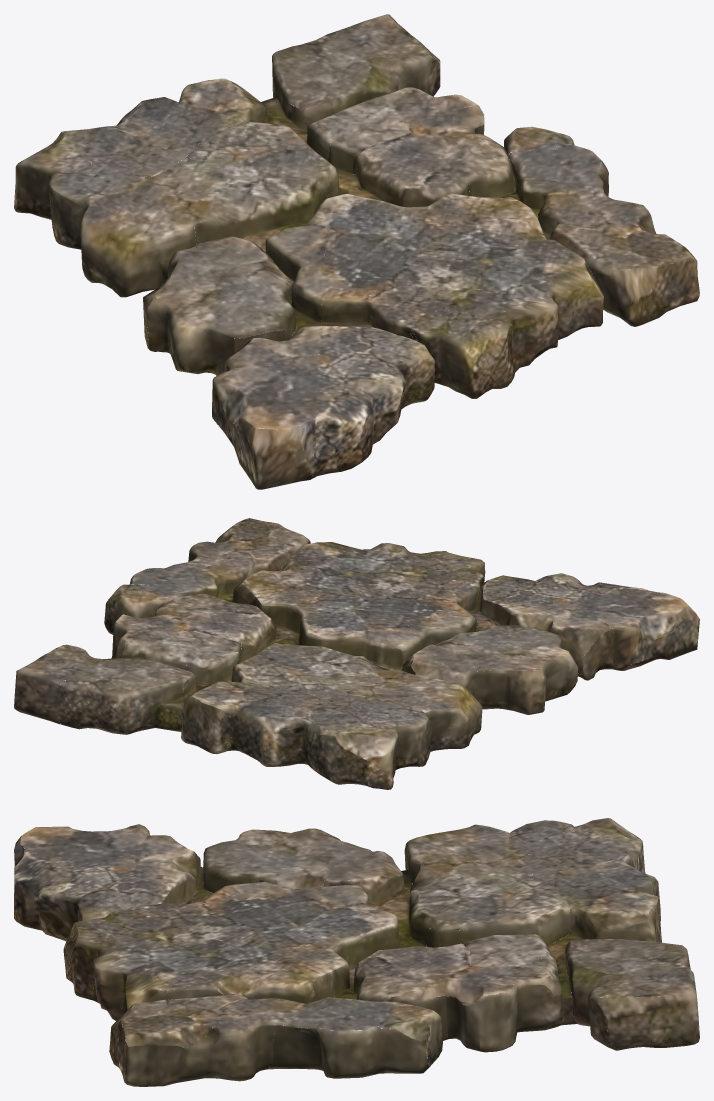
File: piece_02_12602tris.glb
3 views of the same model, one above another, from view 1: azimuth 30°, elevation 25°; view 2: azimuth 150°, elevation 25°; view 3: azimuth 270°, elevation 25° (orthographic). The views are drawn at different scales.
Parts seen in each view (by area): view 1: Eldoria_MultiPiece_Group_02; view 2: Eldoria_MultiPiece_Group_02; view 3: Eldoria_MultiPiece_Group_02.
Part boxes in pixels (left/top/right/bottom): Eldoria_MultiPiece_Group_02: left=14, top=14, right=699, bottom=489; Eldoria_MultiPiece_Group_02: left=14, top=518, right=699, bottom=789; Eldoria_MultiPiece_Group_02: left=14, top=818, right=699, bottom=1086.
Bounding box in the file's own units: 0.3233 × 0.0675 × 0.3828.
Materials: 1 (1 with a texture image).
